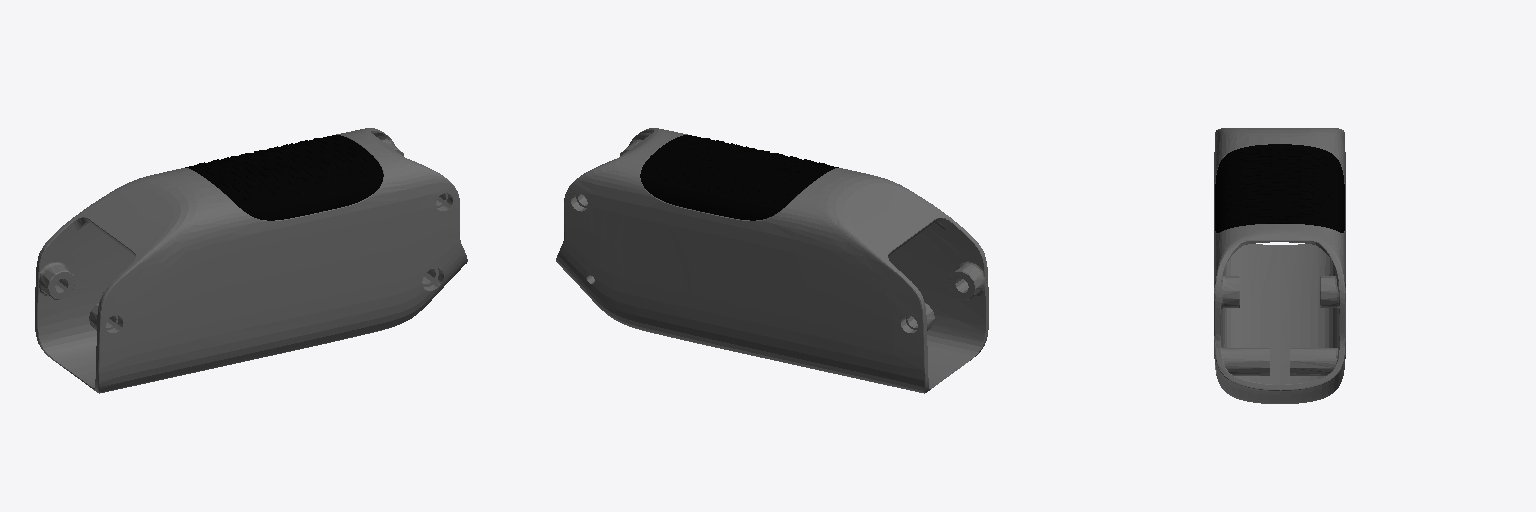
File: L_thumb_proximal_pitch_link.obj
The picture shows the model from 3 angles: view 1: azimuth 30°, elevation 25°; view 2: azimuth 150°, elevation 25°; view 3: azimuth 270°, elevation 25°; orthographic projection.
Parts seen in each view (by area): view 1: L_thumb_proximal_pitch_link; view 2: L_thumb_proximal_pitch_link; view 3: L_thumb_proximal_pitch_link.
Boxes of the visible parts, x1,y1,x2,y2 form: L_thumb_proximal_pitch_link: [35, 128, 467, 393]; L_thumb_proximal_pitch_link: [556, 128, 988, 393]; L_thumb_proximal_pitch_link: [1214, 128, 1345, 403].
Bounding box in the file's own units: 0.0708 × 0.0317 × 0.0214.